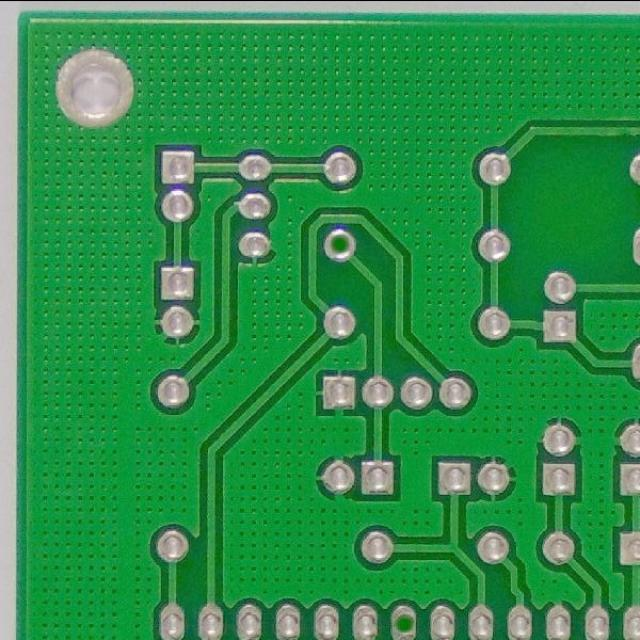Missing_Hole: (320, 227, 361, 264), (384, 602, 422, 640)
